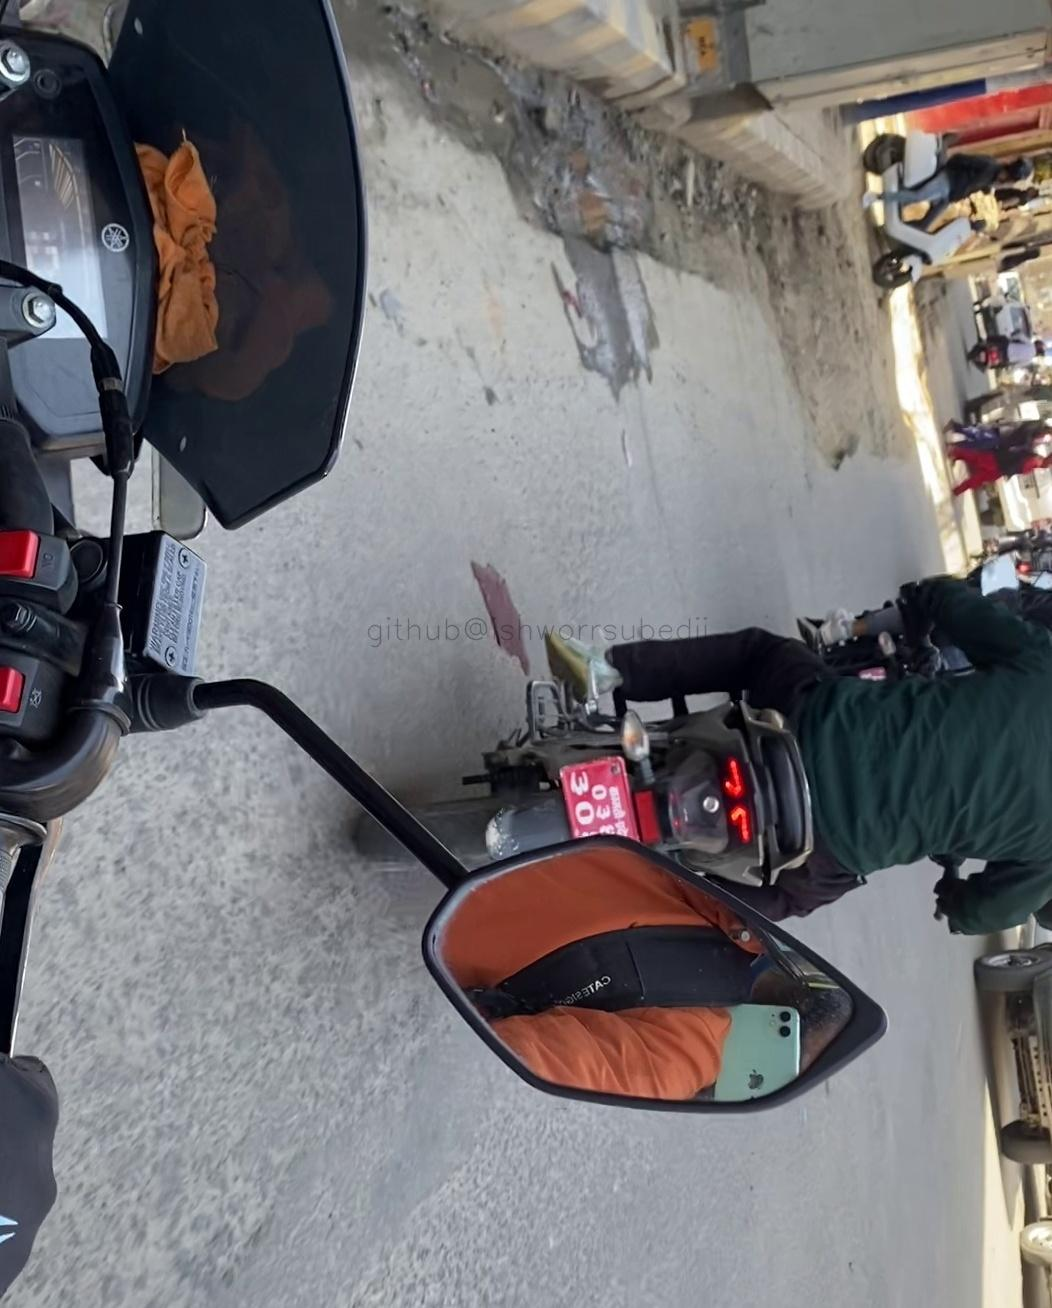license-plate: (547, 747, 684, 873)
